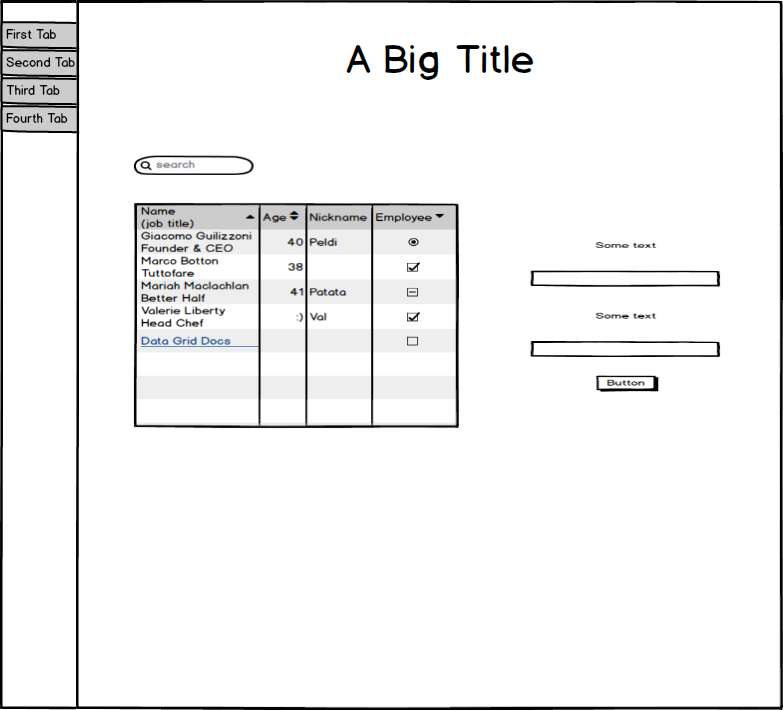button: (593, 369, 662, 397)
h1: (338, 39, 537, 83)
input: (526, 266, 723, 290), (527, 337, 726, 360)
label: (588, 232, 662, 254), (591, 307, 662, 325)
search: (130, 152, 261, 180)
sidebar: (2, 15, 84, 147)
table: (130, 199, 464, 433)
